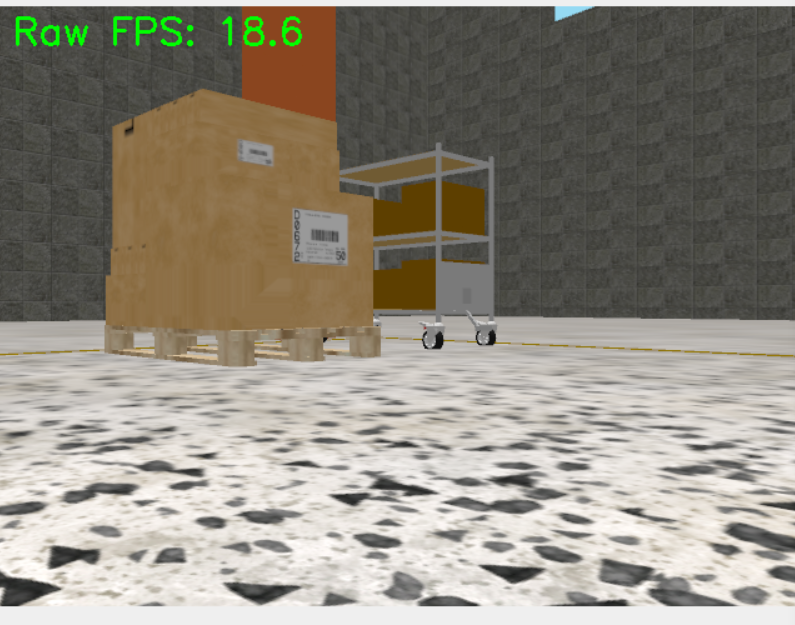barcode: (291, 206, 350, 268), (238, 139, 275, 168)
